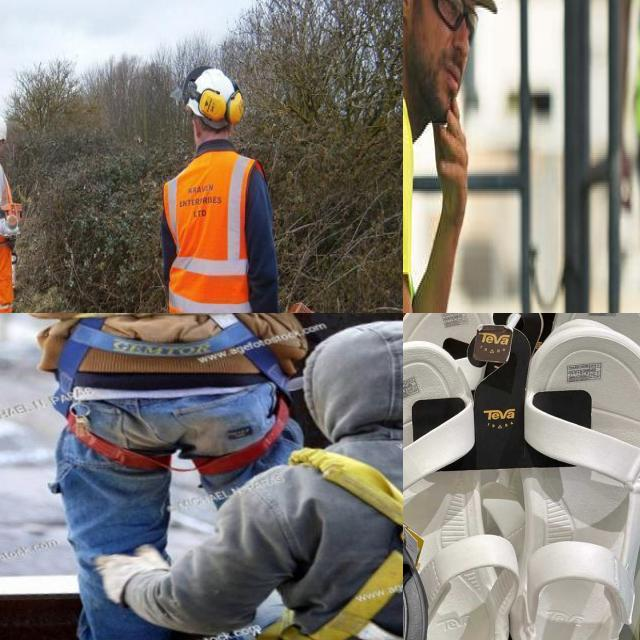Harness: (55, 313, 290, 476), (258, 449, 403, 640)
Sandals: (403, 316, 640, 640), (403, 334, 468, 640)
face_nomask: (409, 0, 478, 118)
glasses: (422, 0, 481, 48)
hand_noglove: (434, 91, 470, 219)
head_helmet: (181, 67, 244, 126), (0, 112, 8, 138)
person: (157, 66, 280, 313), (403, 0, 499, 313), (0, 115, 23, 313)
vest: (162, 151, 260, 313), (0, 149, 12, 244)
